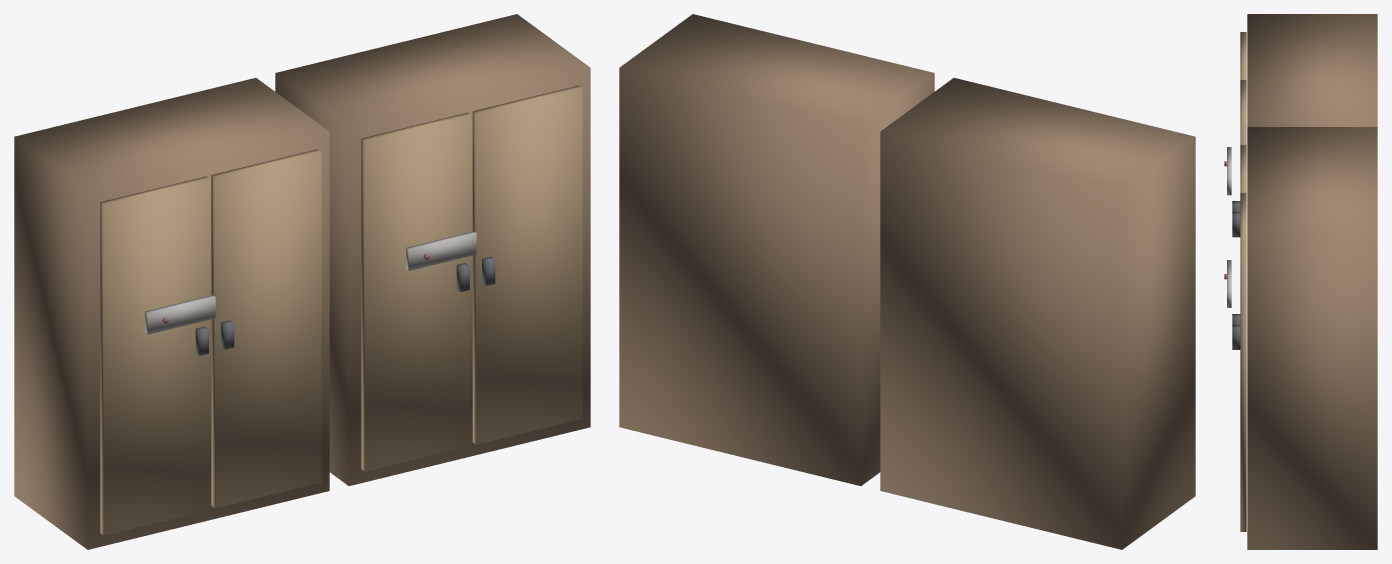
The model's file is dental_instrument_cabinet__cluster.glb.
3 renders of one model, left to right at view 1: azimuth 30°, elevation 25°; view 2: azimuth 150°, elevation 25°; view 3: azimuth 270°, elevation 25°, orthographic. The views are drawn at different scales.
Parts seen in each view (by area): view 1: world; view 2: world; view 3: world.
Part boxes in pixels (bbox=[...]): world: bbox=[14, 14, 590, 549]; world: bbox=[619, 14, 1195, 549]; world: bbox=[1224, 14, 1377, 549].
Bounding box in the file's own units: 1.98 × 1.35 × 0.5885.
